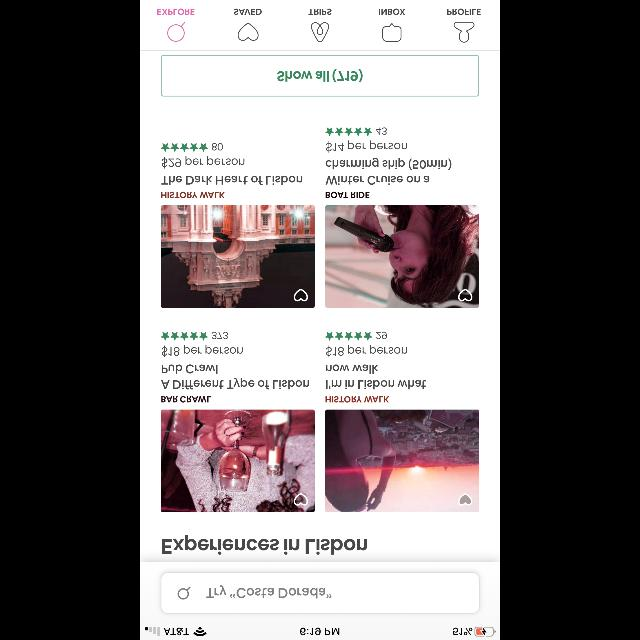icon: (160, 332, 208, 341), (454, 22, 474, 42), (382, 22, 402, 42), (326, 128, 372, 136), (162, 143, 208, 151), (326, 332, 372, 340), (238, 23, 258, 41), (168, 22, 186, 42), (294, 289, 308, 301), (458, 289, 472, 301), (294, 493, 308, 505), (458, 493, 472, 505), (178, 586, 190, 600)
image: (326, 206, 478, 308), (162, 206, 314, 308), (326, 410, 478, 512), (162, 410, 314, 512), (311, 22, 329, 42)
input: (160, 572, 480, 614)
text: (140, 626, 500, 640), (162, 535, 368, 555), (206, 584, 332, 598), (161, 378, 309, 389), (326, 158, 452, 170), (327, 140, 408, 154), (162, 176, 302, 184), (162, 344, 242, 358), (326, 380, 426, 390), (162, 156, 245, 168), (327, 345, 408, 357), (326, 176, 428, 184), (162, 364, 218, 374), (326, 364, 378, 374), (161, 192, 225, 198), (326, 396, 390, 402), (161, 396, 211, 402), (326, 192, 370, 198), (448, 8, 480, 15), (158, 9, 195, 15), (234, 9, 262, 15), (379, 9, 405, 15), (308, 9, 332, 15), (212, 331, 228, 339), (212, 144, 224, 150), (377, 332, 388, 338), (376, 128, 386, 134)
textbutton: (161, 55, 479, 97)
